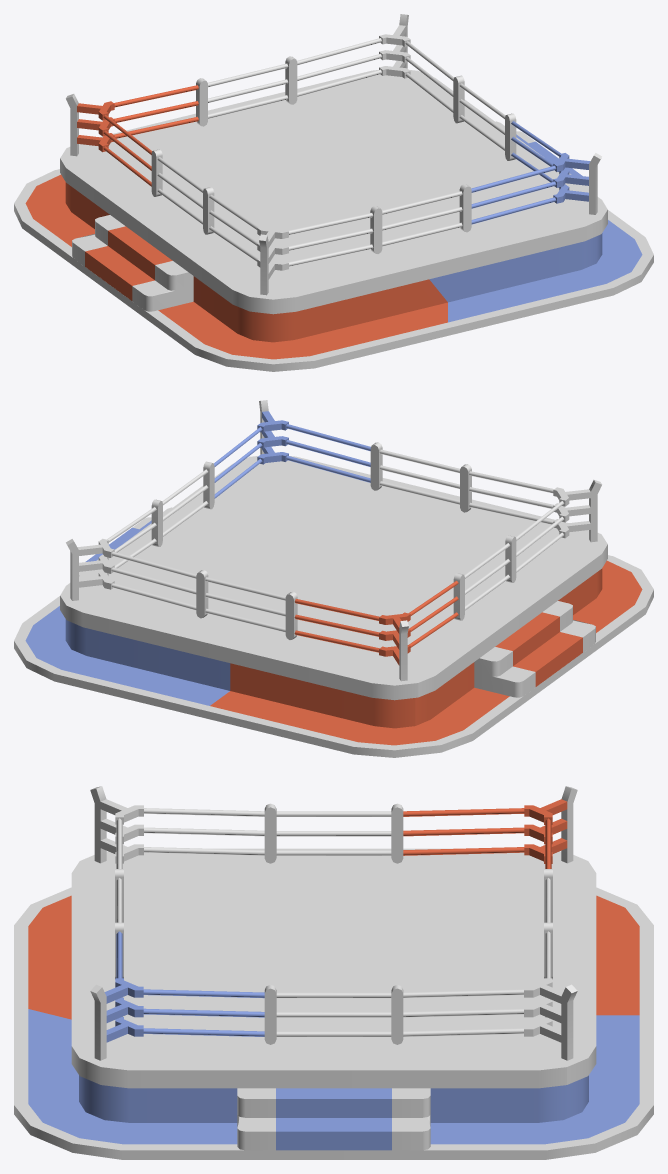
File: boxingRing.fbx
3 renders of one model, top to bottom at view 1: azimuth 30°, elevation 25°; view 2: azimuth 150°, elevation 25°; view 3: azimuth 270°, elevation 25°, orthographic. The views are drawn at different scales.
Visible parts, largest first — view 1: boxingRing; view 2: boxingRing; view 3: boxingRing.
Part boxes in pixels (box(x1,y1,x2,y2)): boxingRing: box(14, 14, 653, 371); boxingRing: box(14, 400, 653, 757); boxingRing: box(14, 786, 653, 1159).
Bounding box in the file's own units: 949 × 226 × 949.
